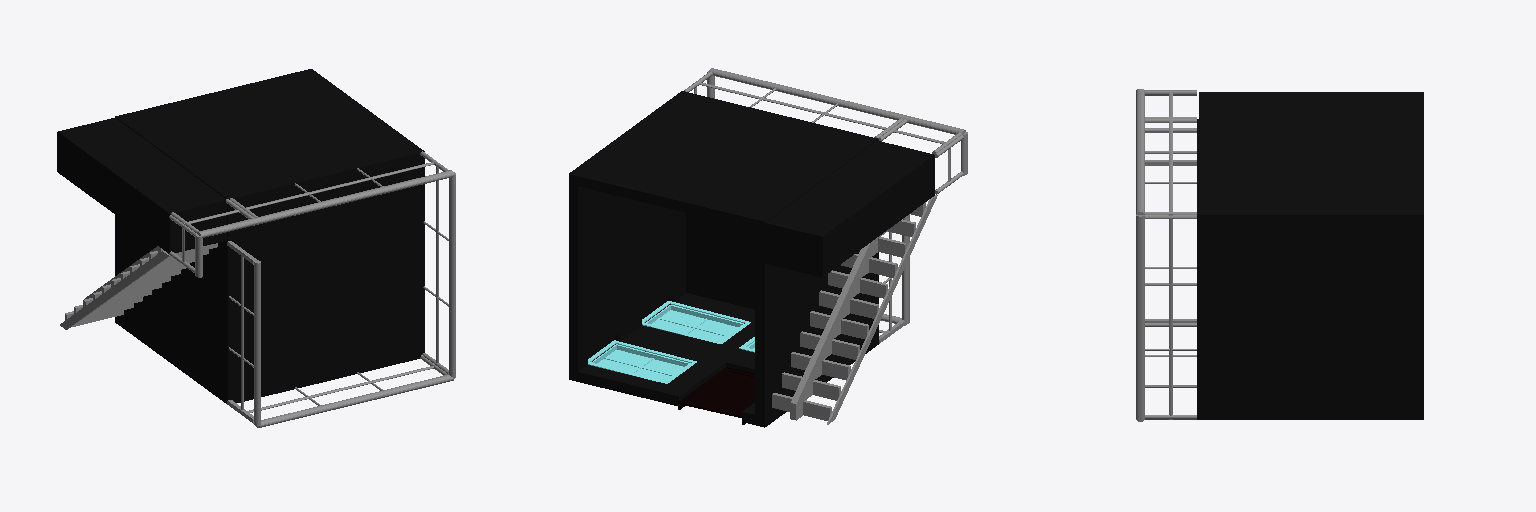
The model's file is city.obj.
3 views of the same model, side by side, from view 1: azimuth 30°, elevation 25°; view 2: azimuth 150°, elevation 25°; view 3: azimuth 270°, elevation 25° (orthographic).
Visible parts, largest first — view 1: Box001, Wall001, Box002, StraightStair001, Railing002, Railing003, Railing001, Railing004, Railing006, Railing005; view 2: Wall001, Box002, StraightStair001, Box001, FixedWindow001, FixedWindow002, PivotDoor001, Railing002, Railing004, Railing006, Railing005; view 3: Wall001, Box002, Box001, Railing003, Railing002, Railing006, Railing004.
Boxes of the visible parts, <box> form: Box001: <box>223,148,424,403</box>; Wall001: <box>115,69,418,400</box>; Box002: <box>57,118,226,253</box>; StraightStair001: <box>60,243,217,329</box>; Railing002: <box>230,151,453,223</box>; Railing003: <box>422,167,455,378</box>; Railing001: <box>248,355,453,427</box>; Railing004: <box>227,241,260,426</box>; Railing006: <box>171,199,259,237</box>; Railing005: <box>169,215,202,277</box>; Wall001: <box>569,95,872,427</box>; Box002: <box>764,141,934,277</box>; StraightStair001: <box>772,195,937,424</box>; Box001: <box>677,91,878,347</box>; FixedWindow001: <box>588,340,696,383</box>; FixedWindow002: <box>642,301,750,343</box>; PivotDoor001: <box>678,367,754,424</box>; Railing002: <box>684,68,906,137</box>; Railing004: <box>879,214,909,343</box>; Railing006: <box>878,116,965,154</box>; Railing005: <box>935,132,967,194</box>; Wall001: <box>1208,119,1423,419</box>; Box002: <box>1199,92,1423,118</box>; Box001: <box>1197,119,1207,419</box>; Railing003: <box>1136,215,1196,419</box>; Railing002: <box>1136,117,1196,214</box>; Railing006: <box>1136,89,1196,118</box>; Railing004: <box>1145,160,1196,322</box>.
Size of the model in its own units: 1.33 by 1.04 by 1.28.